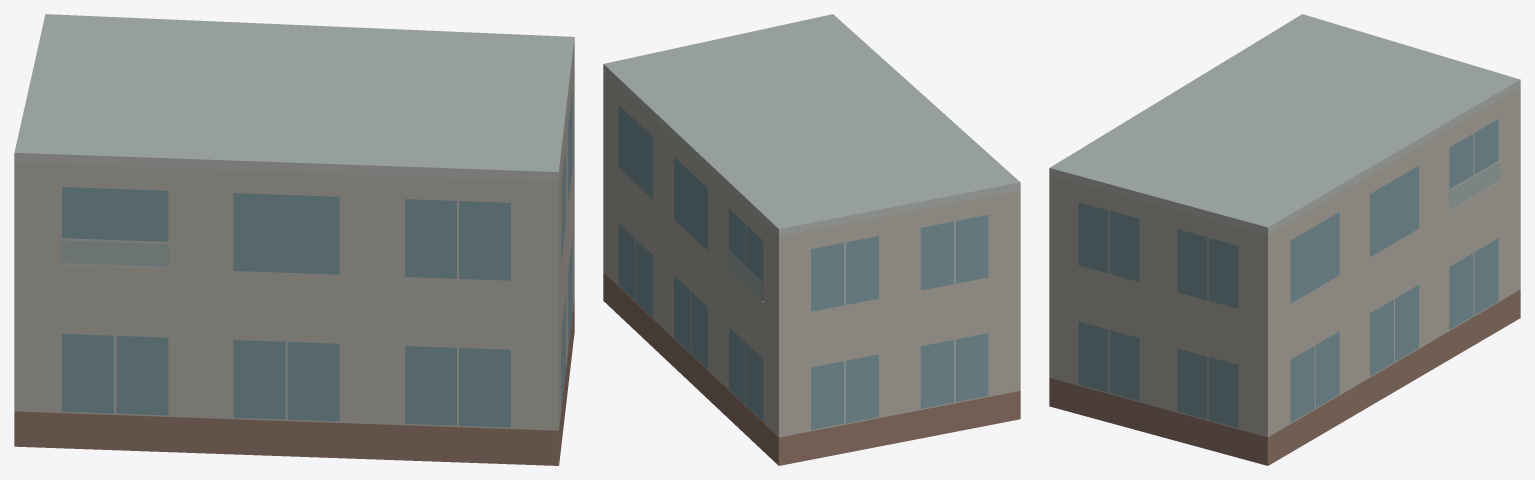
The model's file is survey-upis-33043919.glb.
3 views of the same model, side by side, from view 1: azimuth 30°, elevation 25°; view 2: azimuth 150°, elevation 25°; view 3: azimuth 270°, elevation 25° (orthographic). The views are drawn at different scales.
Visible parts, largest first — view 1: survey-upis-33043919.tmp; view 2: survey-upis-33043919.tmp; view 3: survey-upis-33043919.tmp.
Boxes of the visible parts, x1,y1,x2,y2 form: survey-upis-33043919.tmp: (14, 14, 574, 465); survey-upis-33043919.tmp: (603, 14, 1020, 465); survey-upis-33043919.tmp: (1049, 14, 1520, 465).
Bounding box in the file's own units: 14.41 × 7.5 × 13.44.
